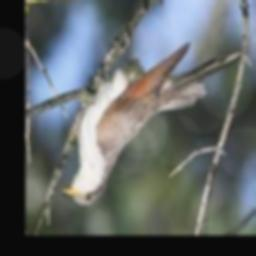Cuckoo: (61, 42, 206, 206)
